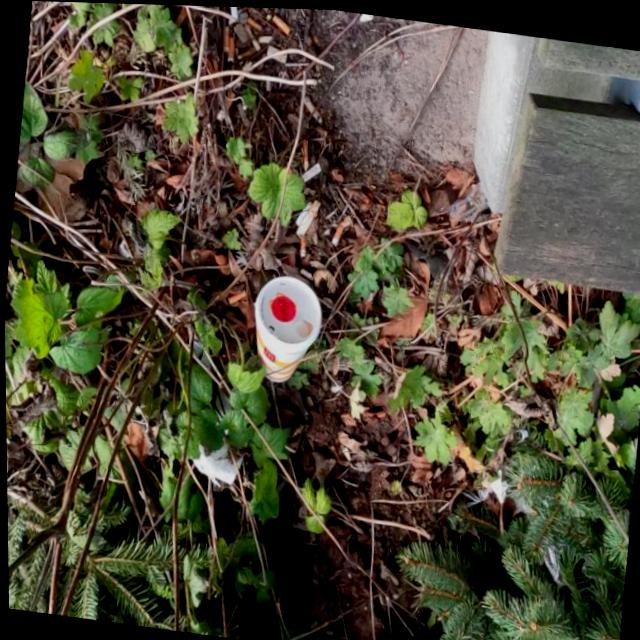Cup: (244, 268, 328, 389)
